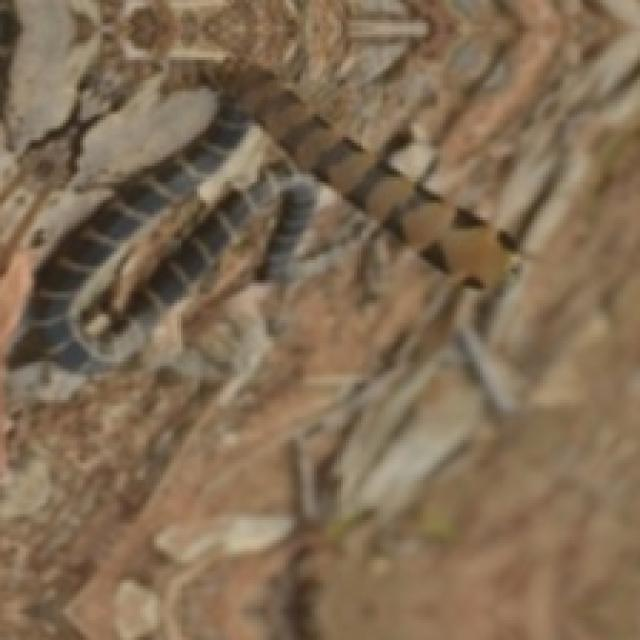king cobra: (9, 94, 509, 397)
